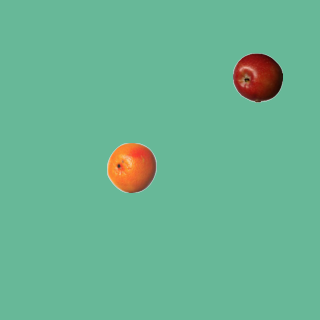Apple Braeburn: (232, 52, 282, 102)
Grapefruit Pink: (106, 142, 156, 192)
